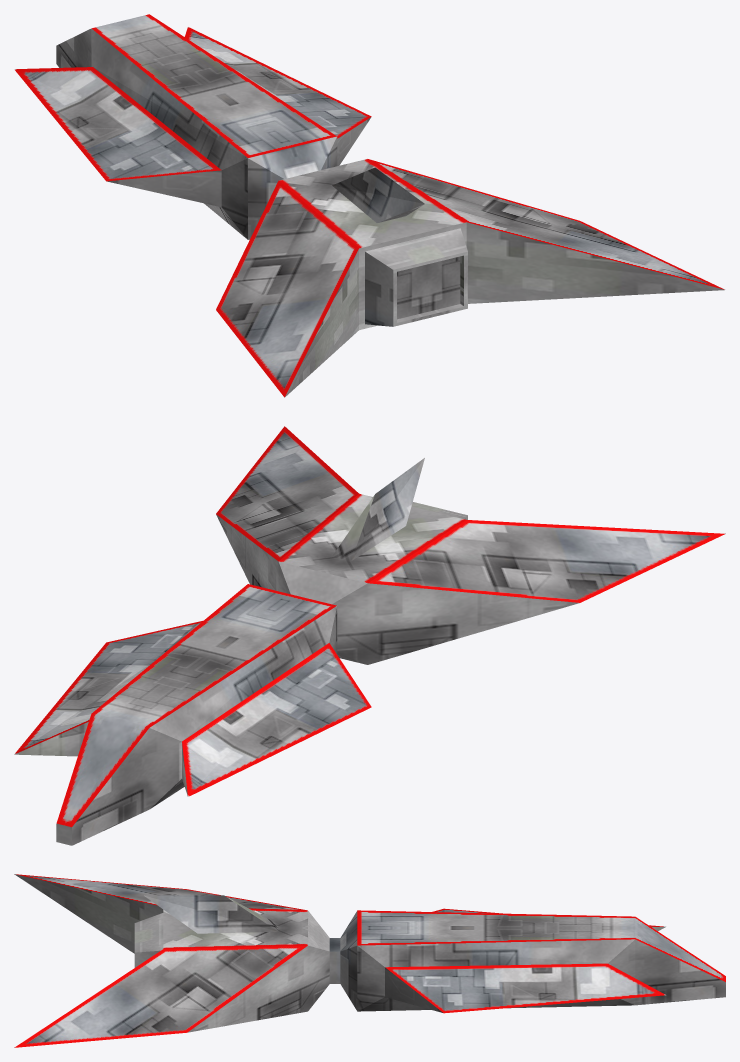
File: shipModel.FBX
3 views of the same model, one above another, from view 1: azimuth 30°, elevation 25°; view 2: azimuth 150°, elevation 25°; view 3: azimuth 270°, elevation 25° (orthographic). The views are drawn at different scales.
Parts seen in each view (by area): view 1: Box001; view 2: Box001; view 3: Box001.
Part boxes in pixels (box(x1,y1,x2,y2)): Box001: box(14, 14, 724, 397); Box001: box(14, 426, 725, 845); Box001: box(14, 874, 725, 1047).
Bounding box in the file's own units: 2.04 × 0.5413 × 3.54.
Materials: 1 (1 with a texture image).
